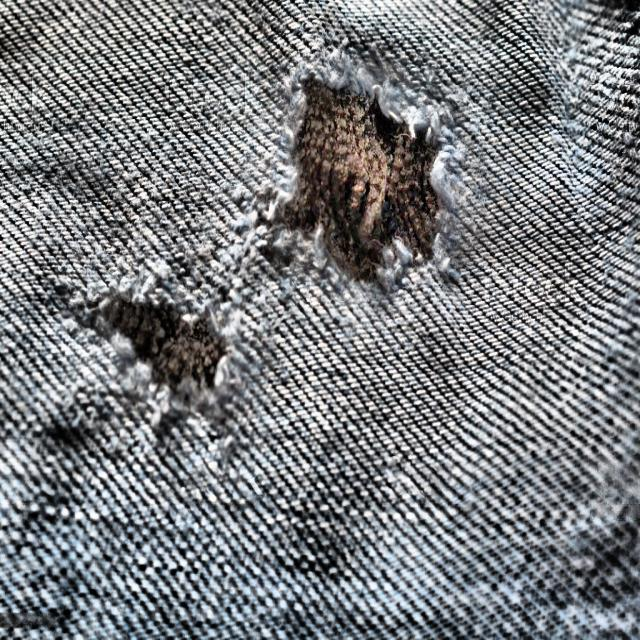Hole: (256, 22, 504, 318), (56, 251, 257, 460)
